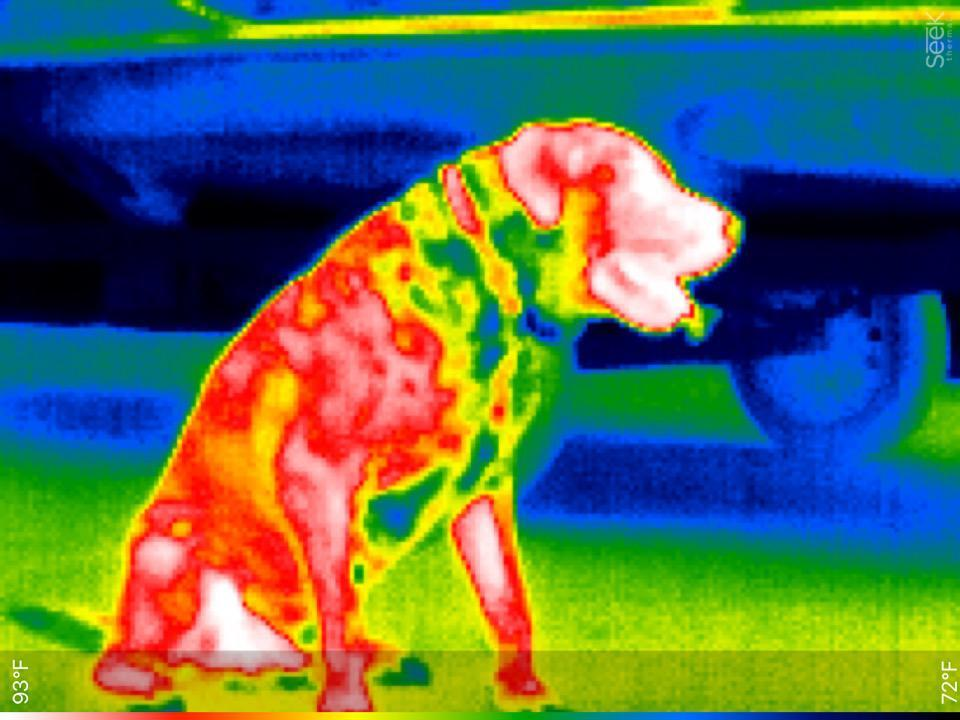dog: (89, 110, 746, 708)
